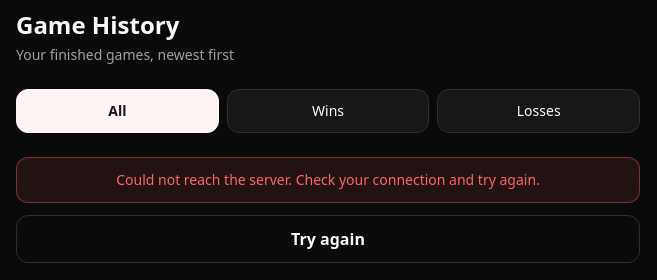
Scenario: GameHistoryPage › says what went wrong, and lets the player try again
Check: the text "Could not reach the server" is shown, box [116,170,540,189]
Click the button "Try again".
click(328, 239)  # box [16,215,640,263]
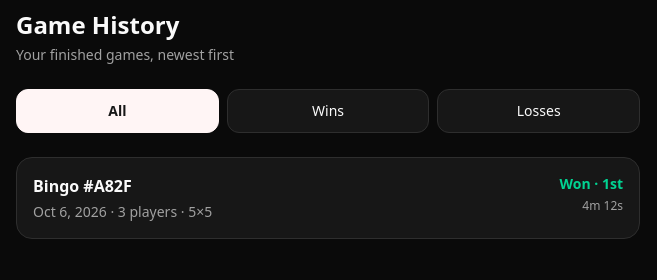
Check: the link "Bingo #A82F Oct 6, 2026 · 3 players · 5×5 Won · 1st 4m 12s" is shown, box [16,157,640,239]
